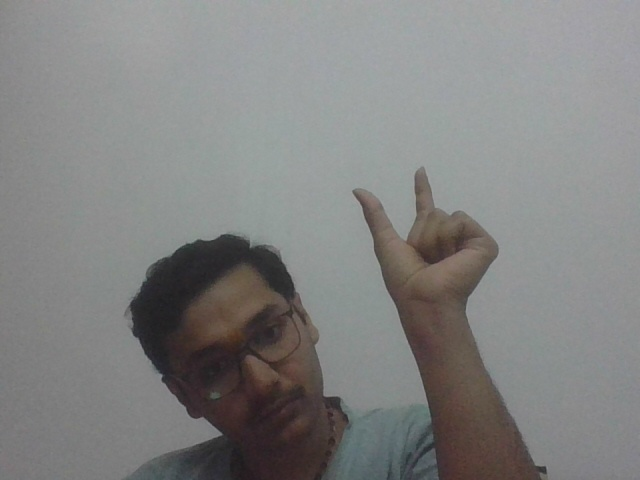U: (346, 163, 516, 314)
